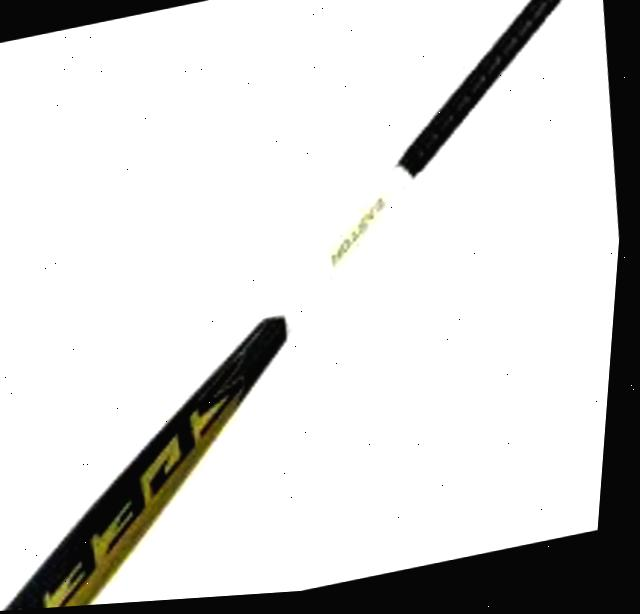baseball bat: (28, 0, 587, 611)
